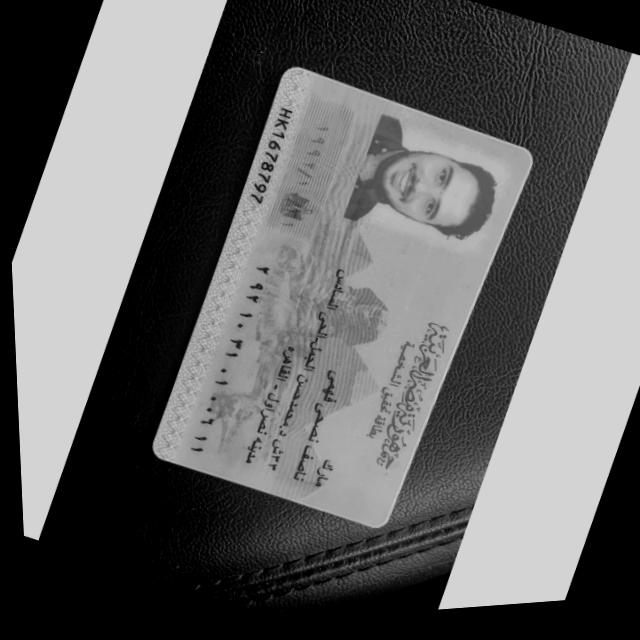front: (152, 66, 532, 529)
